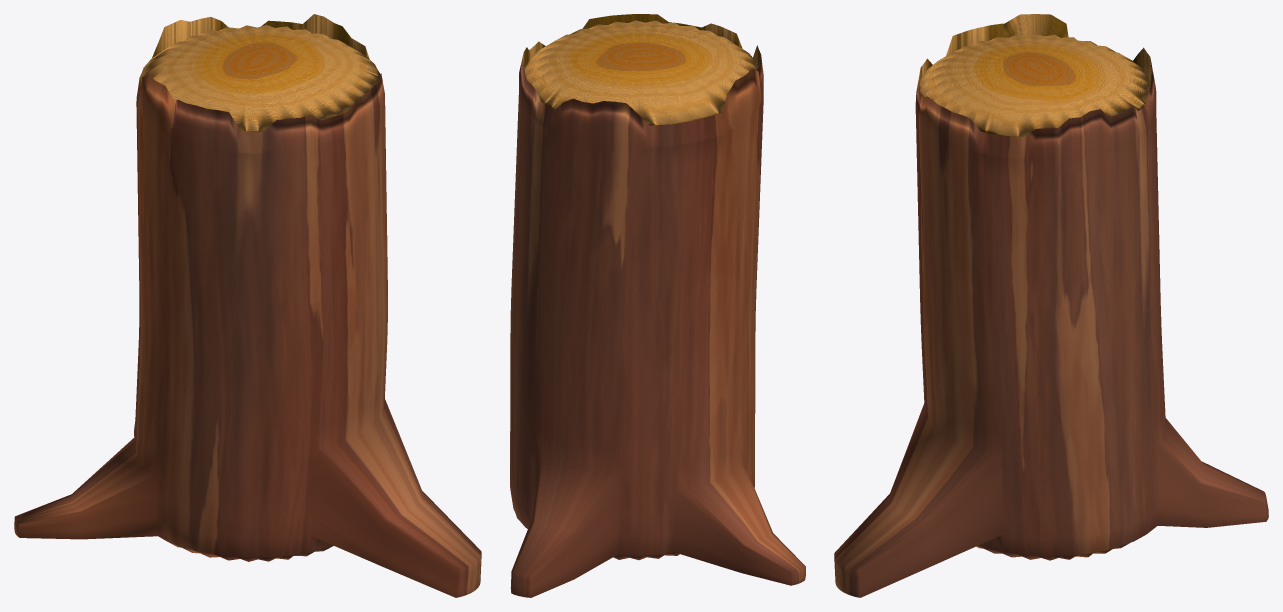
The model's file is Stock.fbx.
The picture shows the model from 3 angles, left to right: view 1: azimuth 30°, elevation 25°; view 2: azimuth 150°, elevation 25°; view 3: azimuth 270°, elevation 25°; orthographic projection. The views are drawn at different scales.
Visible parts, largest first — view 1: Cylinder; view 2: Cylinder; view 3: Cylinder.
Part boxes in pixels (<box>): Cylinder: <box>14,14,481,597</box>; Cylinder: <box>510,14,805,597</box>; Cylinder: <box>834,14,1268,597</box>.
Size of the model in its own units: 3.08 by 3.59 by 4.32.
Materials: 2 (2 with a texture image).
